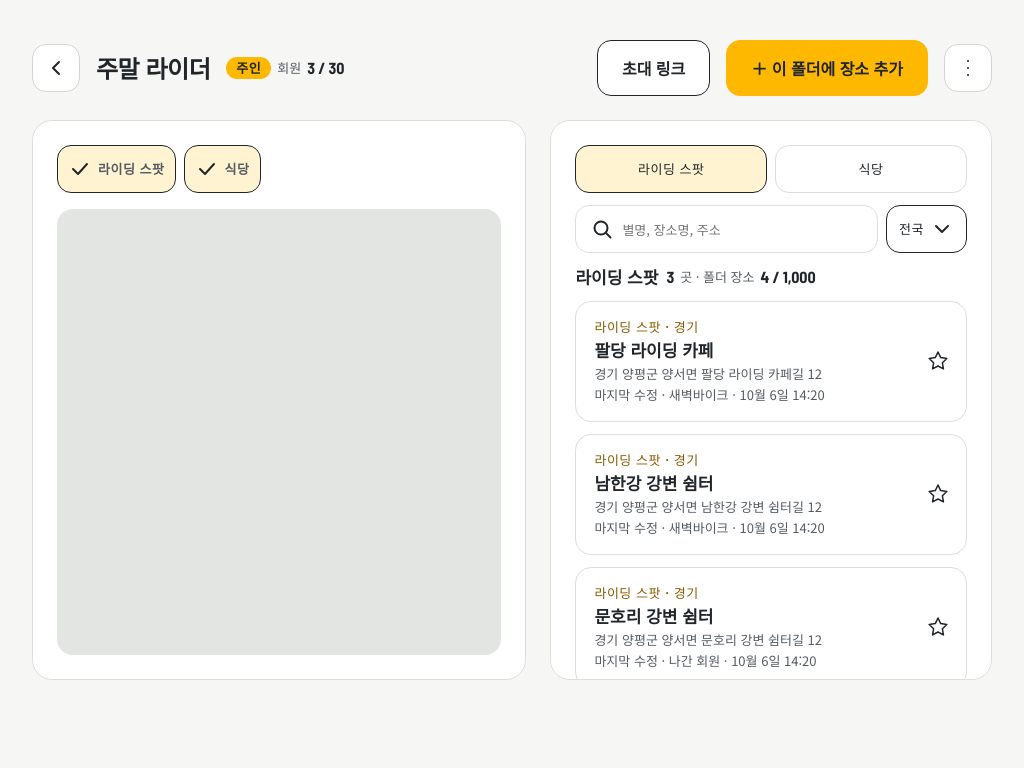
Test: adding a place to a shared folder (G13b) › V3-6: shows a saved place whose star hit the limit as a partial result
The width and height of the screenshot is (1024, 768).
What coordinates should you click on to do the following:
click the button "＋ 이 폴더에 장소 추가"
I would click on:
 (827, 68)
Its box is [726, 40, 928, 96].
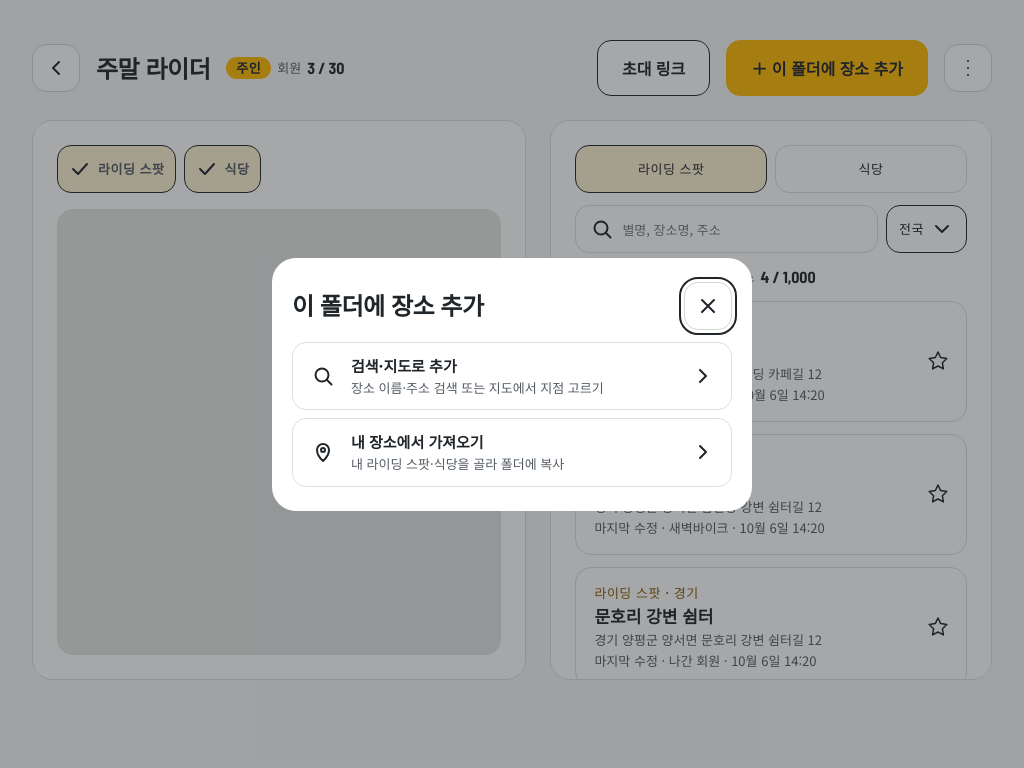
What coordinates should you click on to do the following:
click the button "검색·지도로 추가 장소 이름·주소 검색 또는 지도에서 지점 고르기"
I would click on:
 (512, 376)
Its box is [292, 342, 732, 410].
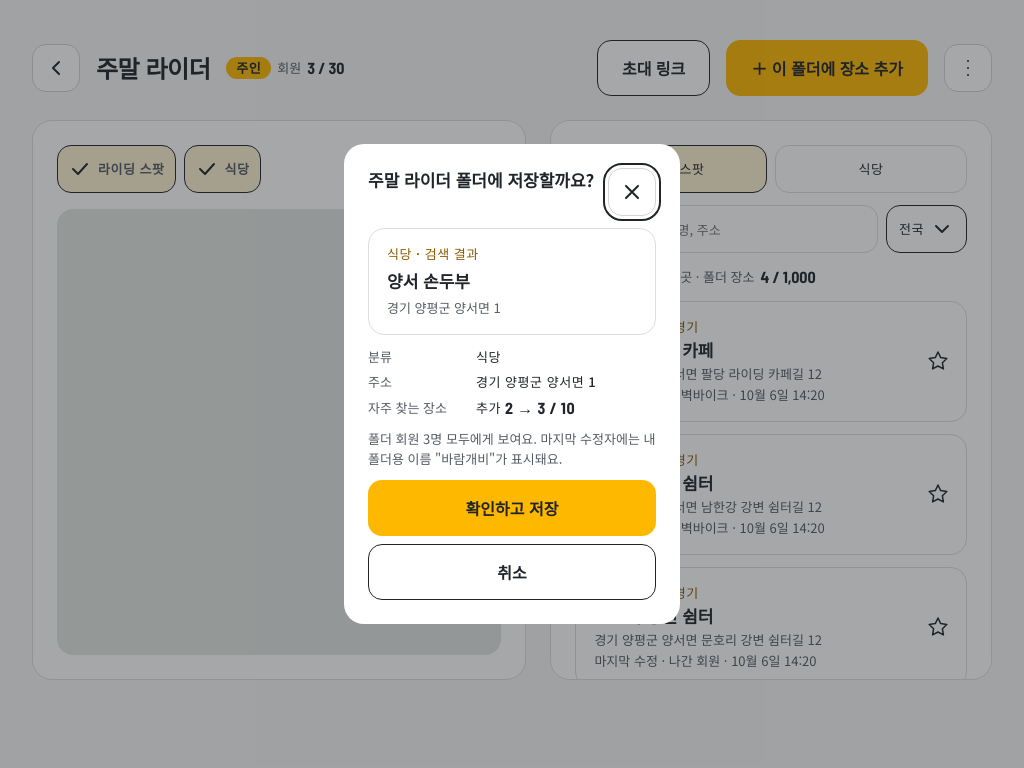
What coordinates should you click on to do the following:
click the button "확인하고 저장"
I would click on:
 (512, 508)
Its box is [368, 480, 656, 536].
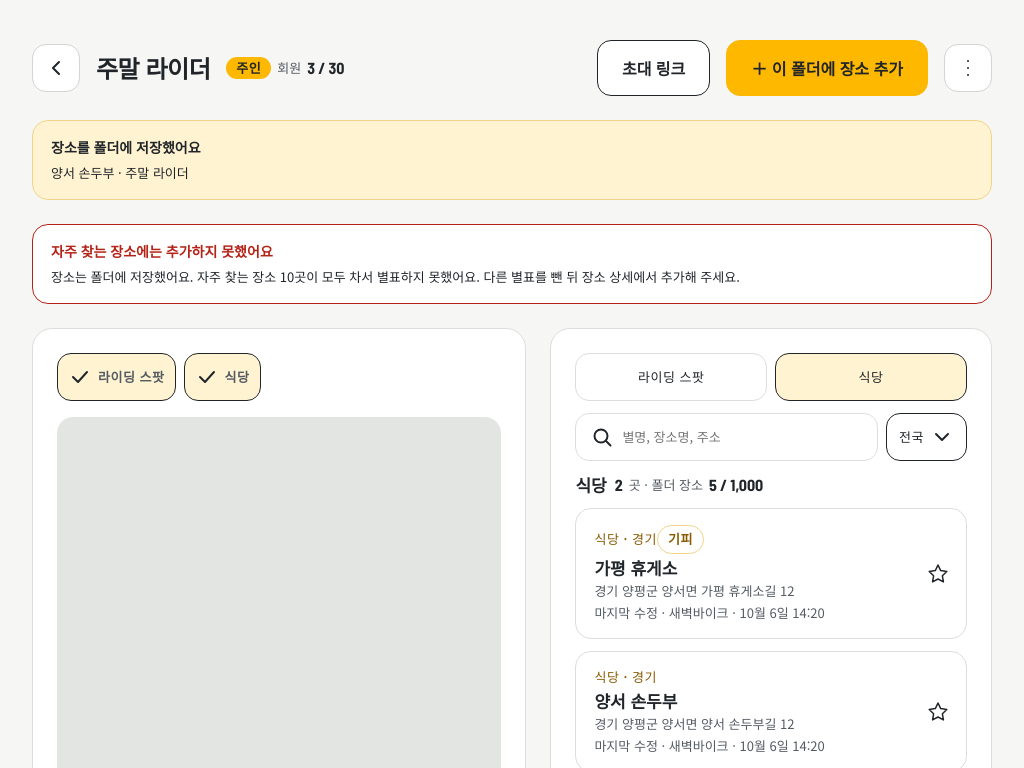
Expected: the text "자주 찾는 장소에는 추가하지 못했어요" is shown, [51, 241, 273, 261]
Expected: the text "장소는 폴더에 저장했어요. 자주 찾는 장소 10곳이 모두 차서 별표하지 못했어요. 다른 별표를 뺀 뒤 장소 상세에서 추가해 주세요." is shown, [51, 267, 740, 286]
Expected: the text "장소를 폴더에 저장했어요" is shown, [51, 137, 200, 157]
